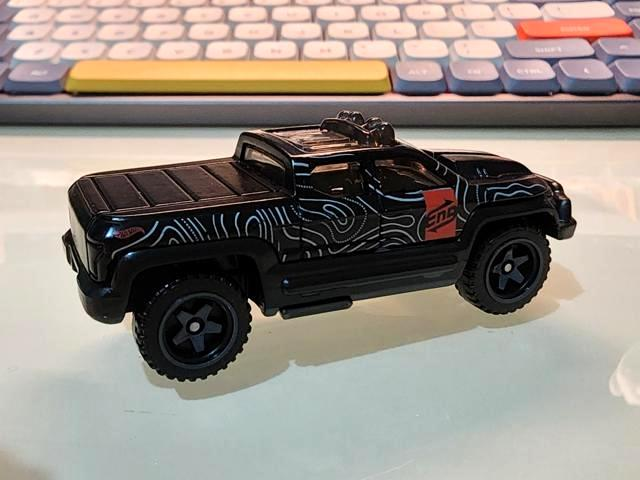toy-car: (61, 110, 577, 382)
